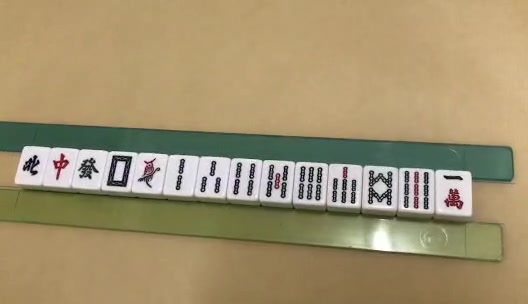1m: (444, 175, 463, 209)
1s: (139, 160, 160, 188)
2s: (173, 159, 187, 189)
3s: (200, 161, 222, 194)
4s: (234, 162, 254, 196), (23, 156, 39, 174)
5s: (267, 164, 288, 197)
5z: (107, 155, 132, 186)
6s: (298, 166, 322, 201)
6z: (77, 157, 96, 178)
7s: (332, 167, 355, 204)
7z: (53, 155, 69, 178)
8s: (368, 171, 394, 204)
9s: (404, 171, 429, 210)
